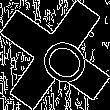O_NW: (22, 23, 88, 87)
